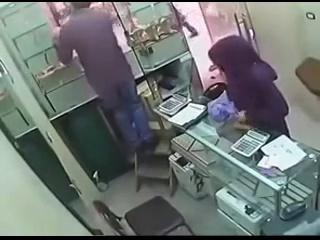Normal: (43, 3, 159, 163), (208, 35, 292, 138)
